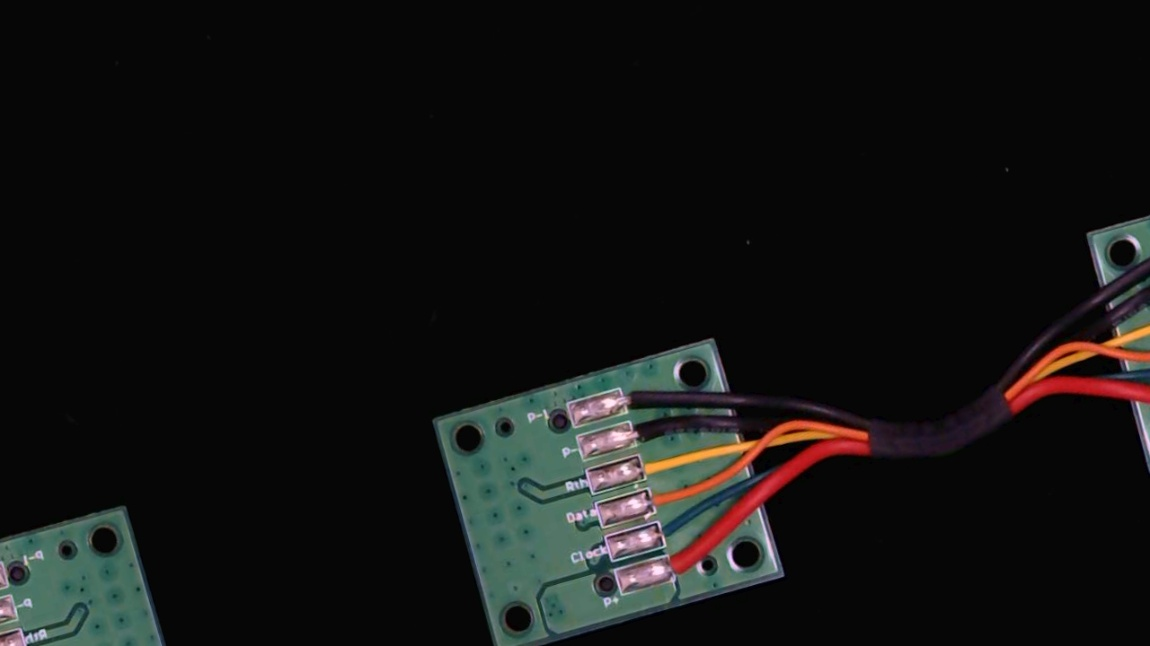Black: (616, 408, 682, 454)
Black1: (606, 375, 666, 416)
Green: (641, 508, 710, 555)
Orange: (633, 474, 703, 519)
Red: (653, 540, 722, 586)
Yellow: (623, 443, 685, 486)
